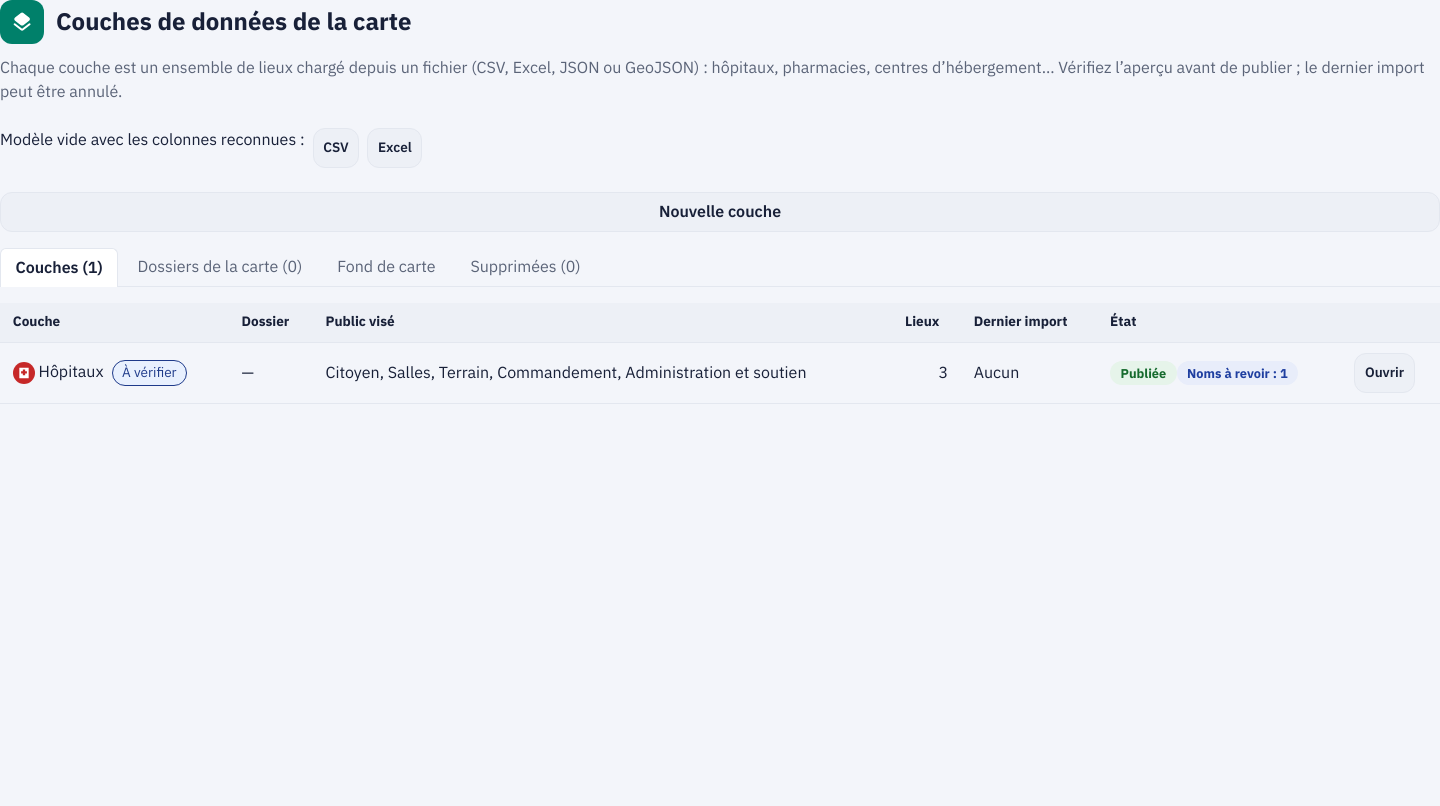
Test: LayersPage › reviews suggested names: accepts every high one at once
The image size is (1440, 806).
Click the button "Ouvrir" at (1385,373), box [1354, 353, 1415, 393]
(page scrolled)
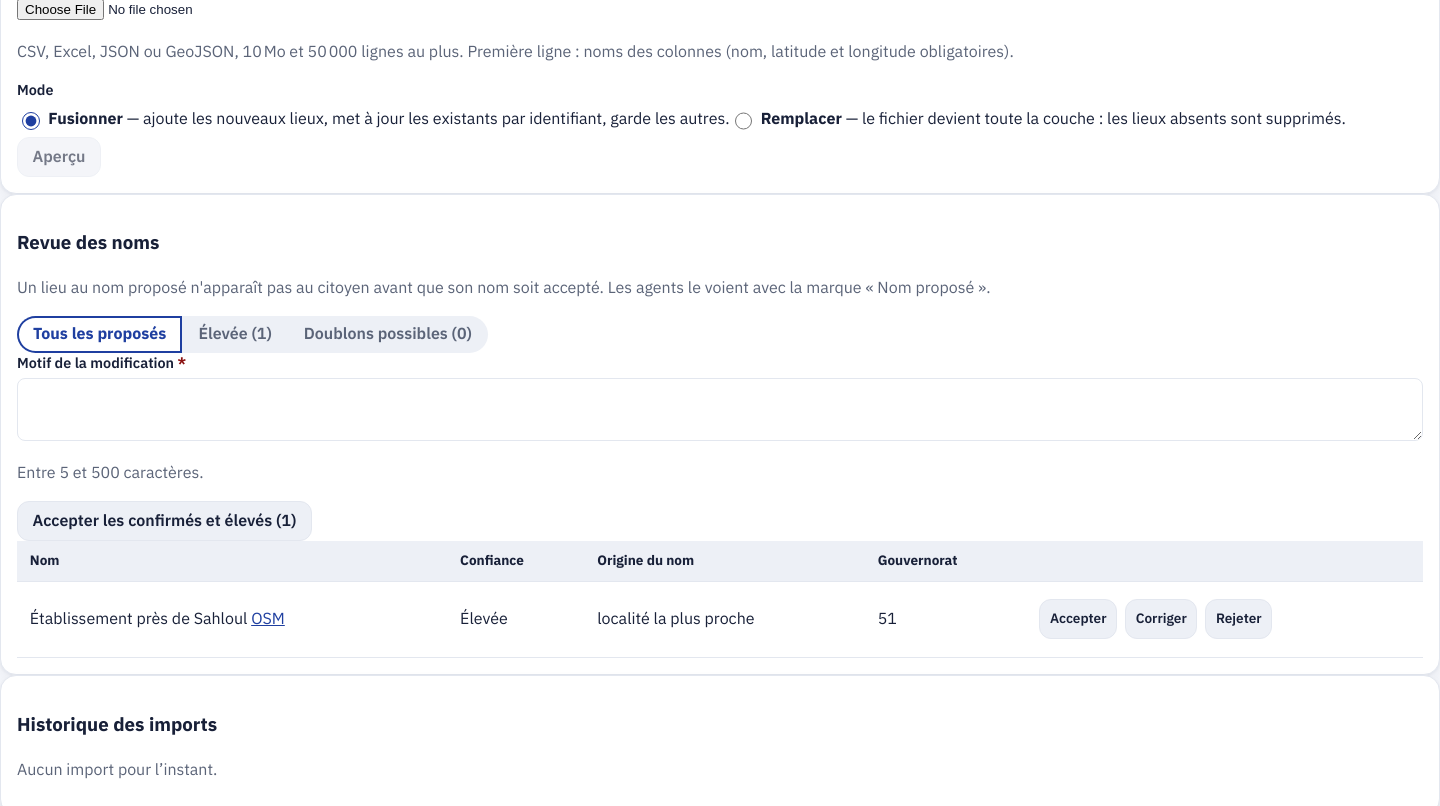
Result: the text "Établissement près de Sahloul" is shown at [30, 607, 247, 631]
Type "Noms vérifiés" into the text box labelled "Motif de la modification" at (720,410), box [17, 378, 1423, 441]
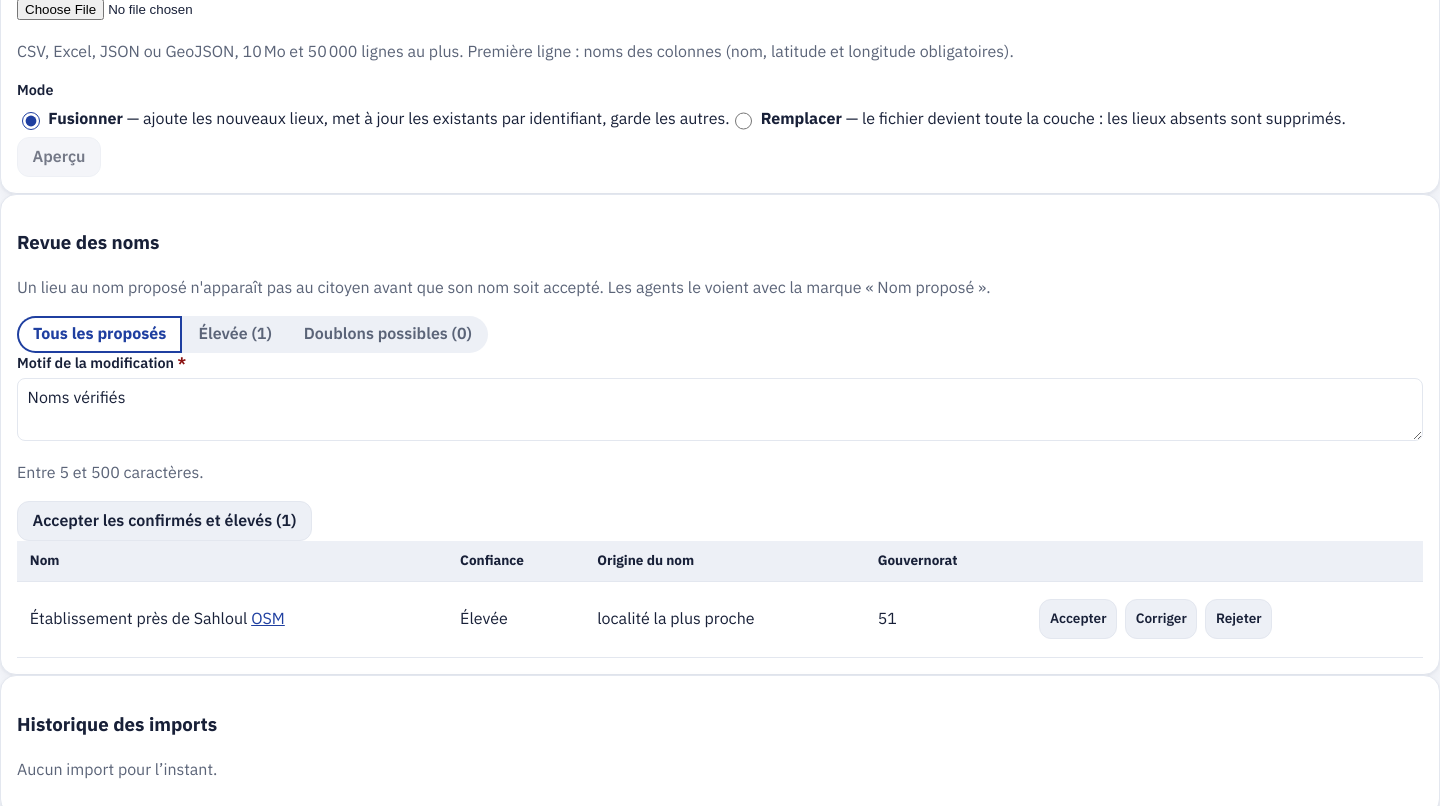
Click the button "Accepter les confirmés et élevés (1)" at (164,521), box [17, 501, 312, 541]
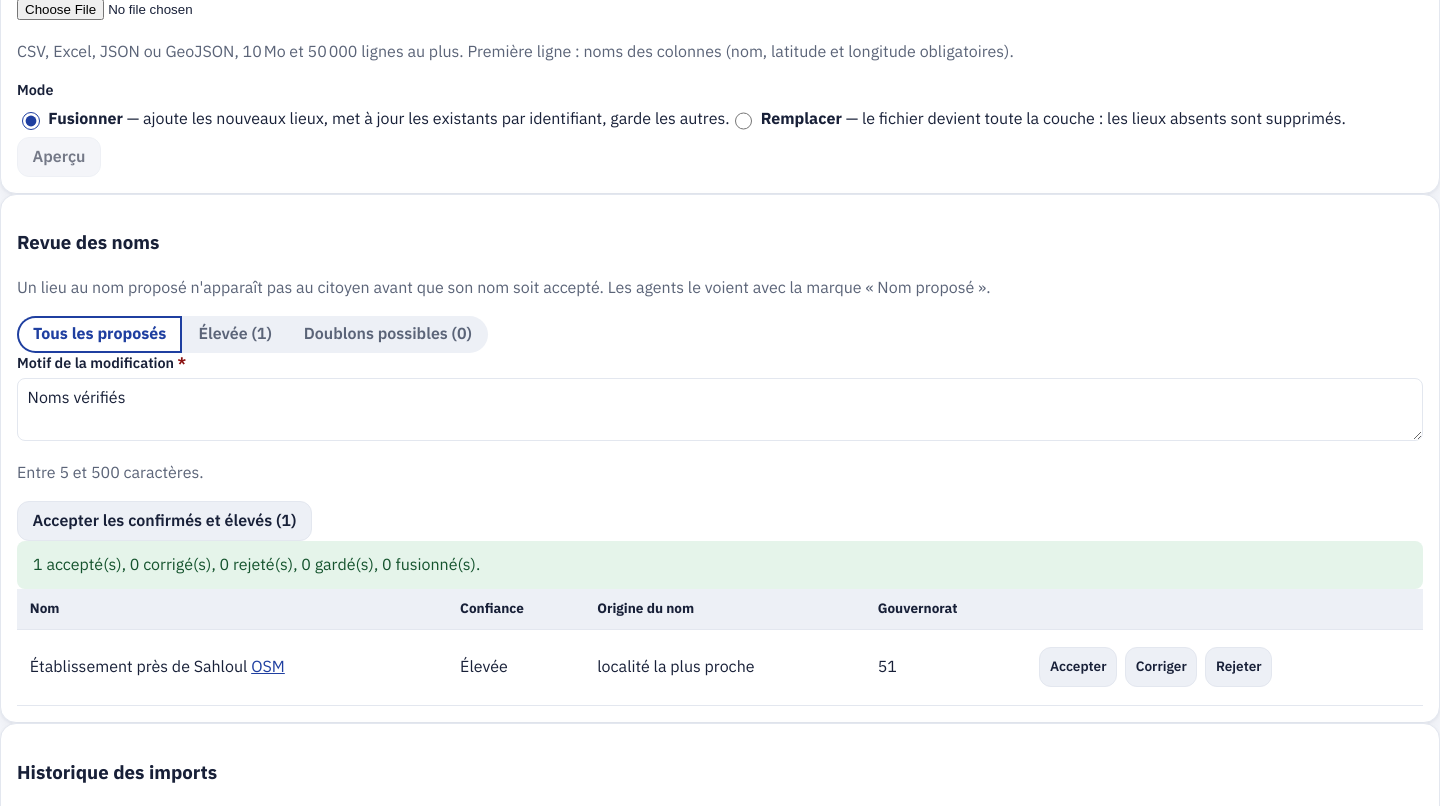
Result: the text "1 accepté" is shown at [33, 553, 480, 577]
